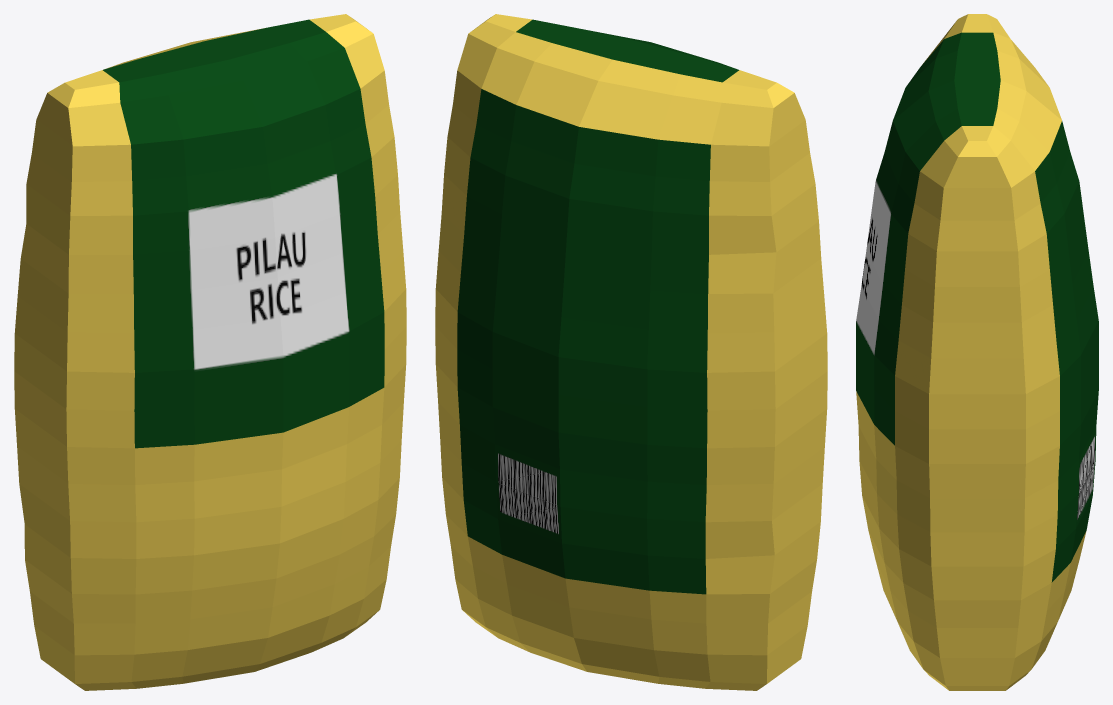
The model's file is pilau_rice.glb.
3 renders of one model, left to right at view 1: azimuth 30°, elevation 25°; view 2: azimuth 150°, elevation 25°; view 3: azimuth 270°, elevation 25°, orthographic. The views are drawn at different scales.
Parts seen in each view (by area): view 1: Cube; view 2: Cube; view 3: Cube.
Part boxes in pixels (x1=…): Cube: x1=14, y1=14, x2=406, y2=690; Cube: x1=435, y1=14, x2=827, y2=690; Cube: x1=856, y1=14, x2=1098, y2=690.
Size of the model in its own units: 0.15 by 0.25 by 0.1.
1 material, 1 textured.
